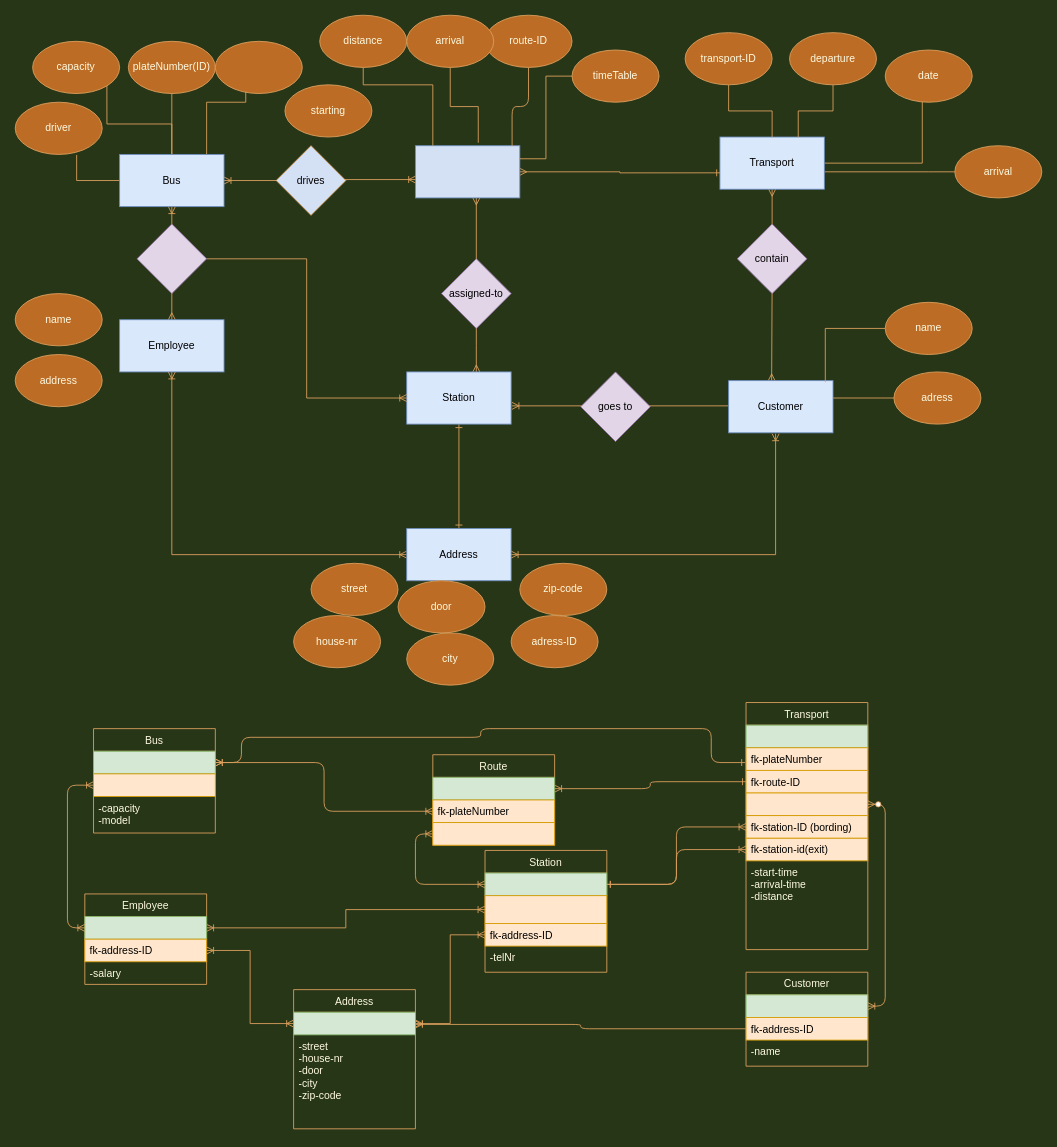
Image size: 1057x1147. Some labels were removed from this diagram. Here are the shapes that lost their labels. From the top down, the box of each, then its label:
(214, 40, 302, 94): model
(415, 145, 520, 198): Routes
(136, 223, 207, 294): works at
(745, 724, 868, 748): PK-Transport-ID
(93, 750, 215, 774): PK-plateNumber
(93, 773, 215, 796): fk-employee
(432, 776, 555, 800): PK-route-ID
(745, 792, 868, 816): fk-customer-ID
(432, 822, 555, 845): fk-station ID
(484, 872, 607, 896): PK-station-ID
(84, 916, 207, 939): PK-Employee ID
(484, 895, 607, 924): fk-employee-ID
(293, 1011, 415, 1035): PK-address-ID
(745, 994, 868, 1017): PK-customer-ID
